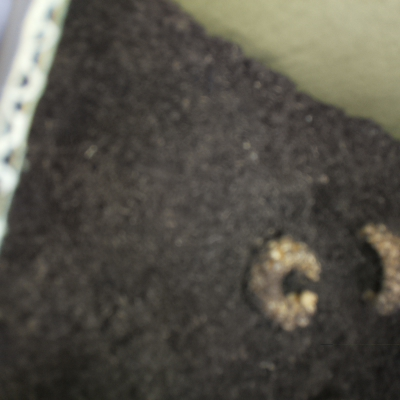eggs: (240, 228, 323, 335), (351, 218, 400, 323)
